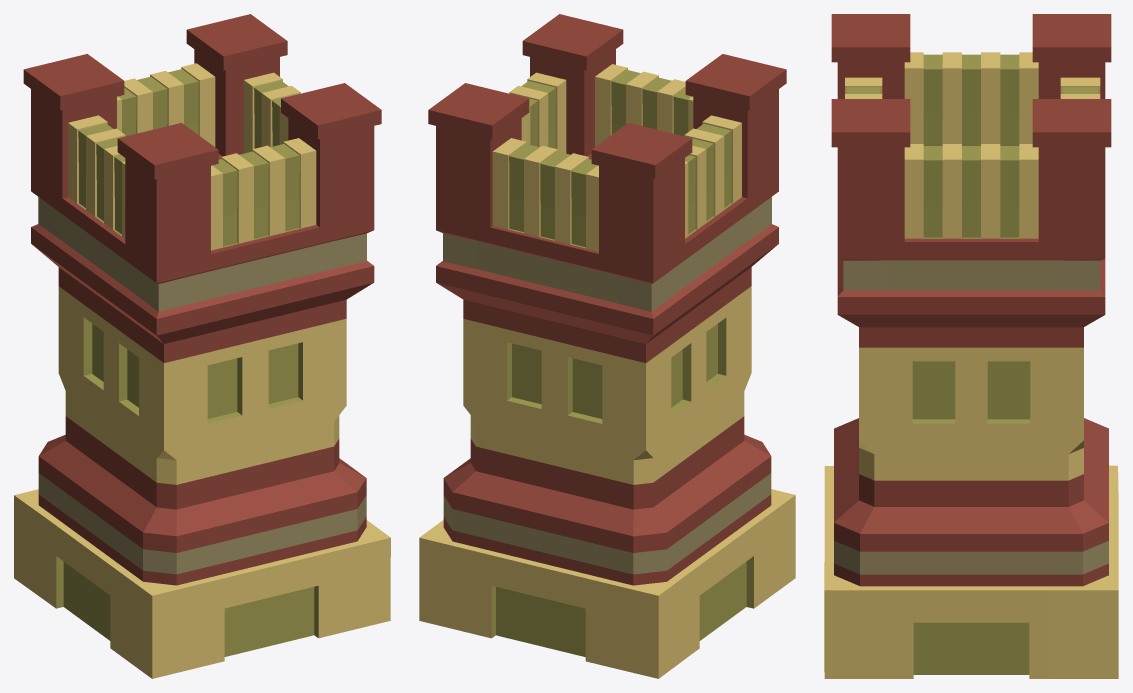
The model's file is Towe 01.FBX.
The picture shows the model from 3 angles, left to right: view 1: azimuth 30°, elevation 25°; view 2: azimuth 150°, elevation 25°; view 3: azimuth 270°, elevation 25°; orthographic projection. The views are drawn at different scales.
Visible parts, largest first — view 1: Box001; view 2: Box001; view 3: Box001.
Boxes of the visible parts, box(x1,y1,x2,y2) form: Box001: box(14, 14, 390, 678); Box001: box(419, 14, 795, 678); Box001: box(824, 14, 1118, 678).
Size of the model in its own units: 27 by 54.97 by 26.96.
